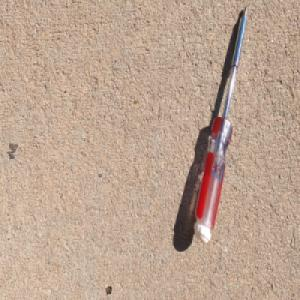Screwdriver: (191, 10, 248, 245)
